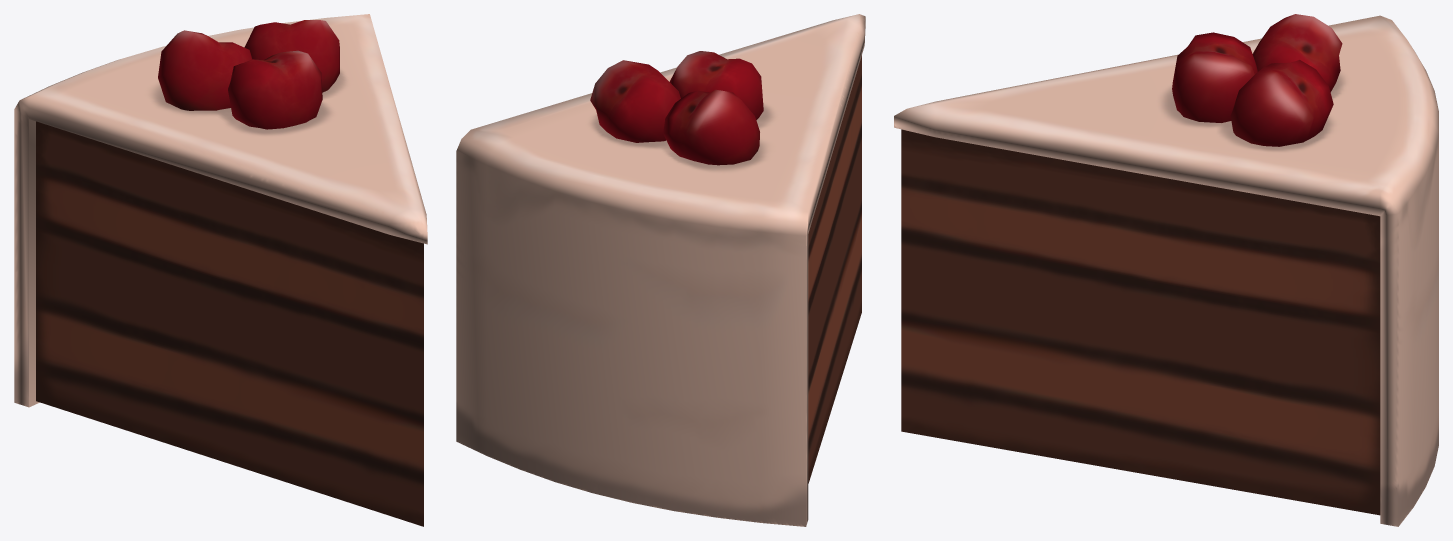
Rendered from cake_001.fbx.
3 renders of one model, left to right at view 1: azimuth 30°, elevation 25°; view 2: azimuth 150°, elevation 25°; view 3: azimuth 270°, elevation 25°, orthographic. The views are drawn at different scales.
Parts seen in each view (by area): view 1: cake_001; view 2: cake_001; view 3: cake_001.
Boxes of the visible parts, left/top/right/bottom form: cake_001: left=14, top=14, right=427, bottom=526; cake_001: left=456, top=14, right=865, bottom=526; cake_001: left=894, top=14, right=1438, bottom=526.
Bounding box in the file's own units: 1.4 × 1.41 × 1.75.
1 material, 1 textured.
